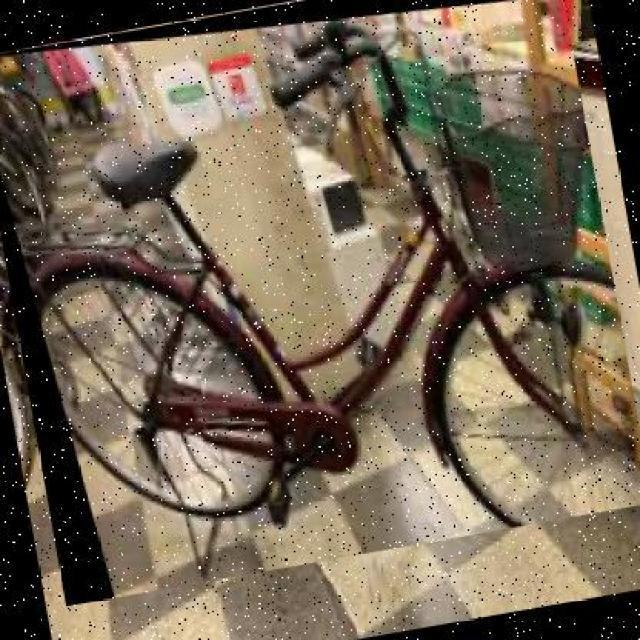bicycle: (1, 1, 639, 608)
